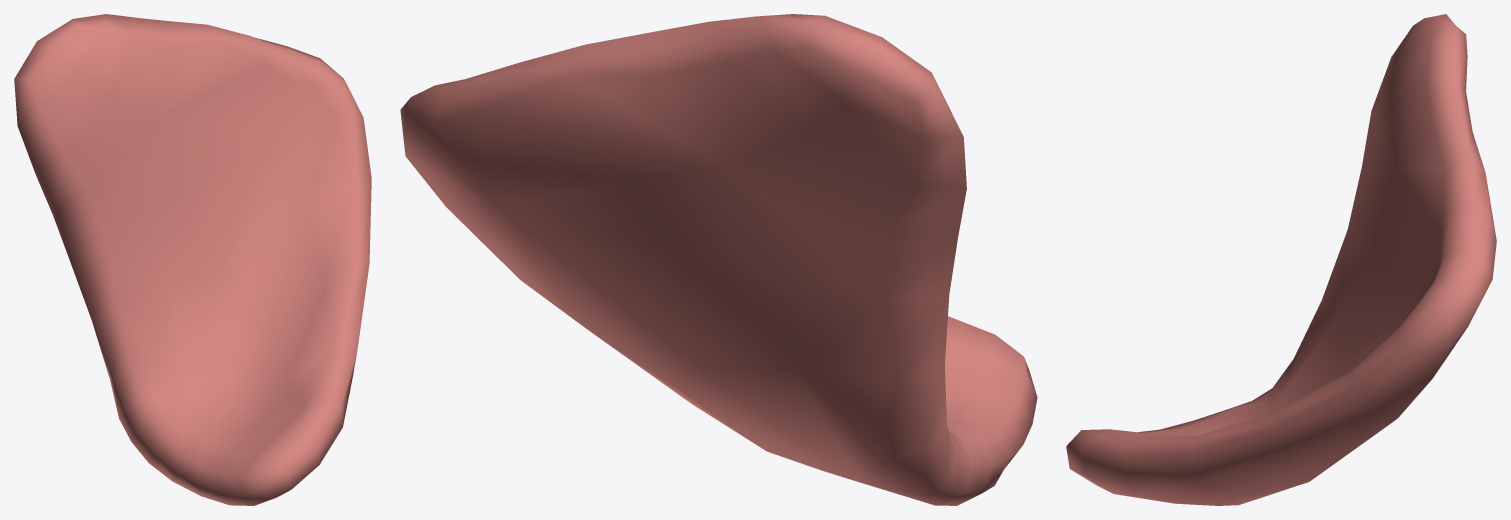
The picture shows the model from 3 angles, left to right: view 1: azimuth 30°, elevation 25°; view 2: azimuth 150°, elevation 25°; view 3: azimuth 270°, elevation 25°; orthographic projection. The views are drawn at different scales.
Parts seen in each view (by area): view 1: ZA_1774132f32e27238; view 2: ZA_1774132f32e27238; view 3: ZA_1774132f32e27238.
Part boxes in pixels (<box>): ZA_1774132f32e27238: <box>14,14,371,505</box>; ZA_1774132f32e27238: <box>400,14,1037,505</box>; ZA_1774132f32e27238: <box>1066,14,1496,505</box>.
Bounding box in the file's own units: 0.00363 × 0.0038 × 0.00334.
